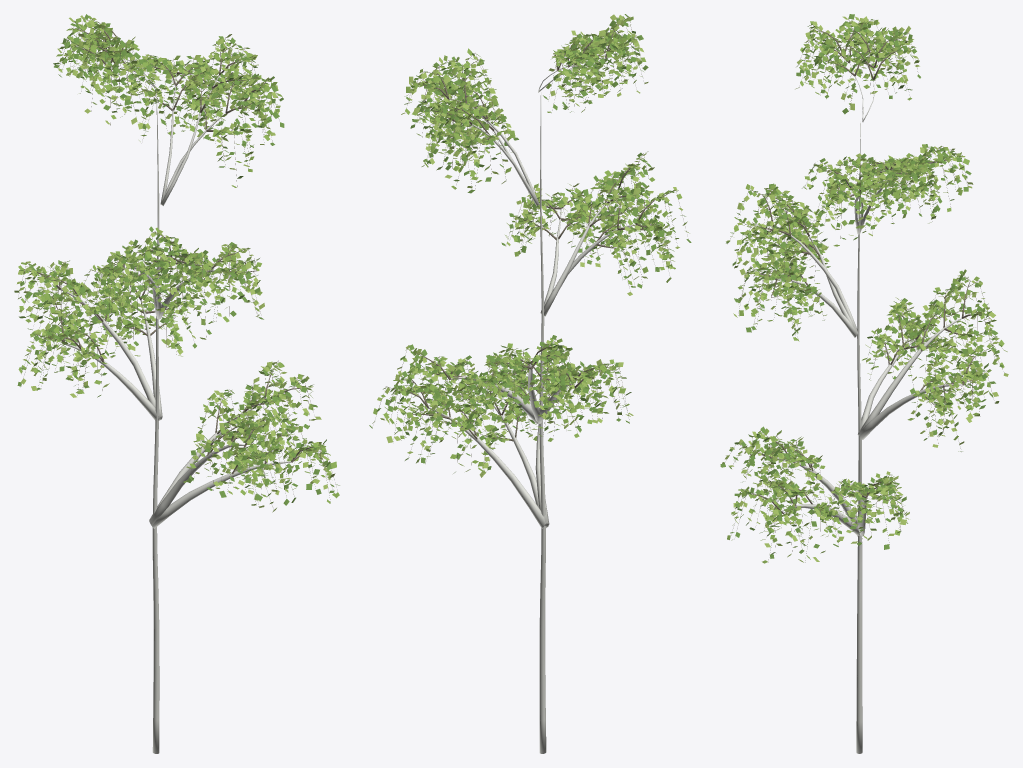
Rendered from bg_birch_0.glb.
The picture shows the model from 3 angles, left to right: view 1: azimuth 30°, elevation 25°; view 2: azimuth 150°, elevation 25°; view 3: azimuth 270°, elevation 25°; orthographic projection. The views are drawn at different scales.
Parts seen in each view (by area): view 1: birch_part1, birch_part3, birch_part2, birch_part0, birch_trunk, birch_part94, birch_part99, birch_part95, birch_part90; view 2: birch_part1, birch_part2, birch_part3, birch_part0, birch_trunk, birch_part89, birch_part96; view 3: birch_part3, birch_part2, birch_part1, birch_part0, birch_trunk, birch_part95, birch_part100.
Boxes of the visible parts, x1=… form: birch_part1: x1=17, y1=14, x2=339, y2=505; birch_part3: x1=17, y1=15, x2=335, y2=512; birch_part2: x1=14, y1=15, x2=339, y2=505; birch_part0: x1=19, y1=18, x2=334, y2=506; birch_trunk: x1=152, y1=90, x2=159, y2=753; birch_part94: x1=150, y1=461, x2=290, y2=528; birch_part99: x1=149, y1=444, x2=244, y2=527; birch_part95: x1=60, y1=289, x2=161, y2=414; birch_part90: x1=65, y1=344, x2=160, y2=420; birch_part1: x1=369, y1=14, x2=691, y2=473; birch_part2: x1=373, y1=16, x2=687, y2=472; birch_part3: x1=372, y1=14, x2=689, y2=477; birch_part0: x1=379, y1=16, x2=685, y2=477; birch_trunk: x1=539, y1=92, x2=546, y2=753; birch_part89: x1=428, y1=407, x2=547, y2=528; birch_part96: x1=541, y1=199, x2=610, y2=315; birch_part3: x1=725, y1=16, x2=1008, y2=562; birch_part2: x1=720, y1=19, x2=1004, y2=563; birch_part1: x1=720, y1=14, x2=1003, y2=558; birch_part0: x1=727, y1=19, x2=1004, y2=562; birch_trunk: x1=856, y1=121, x2=862, y2=753; birch_part95: x1=859, y1=318, x2=961, y2=433; birch_part100: x1=859, y1=384, x2=962, y2=439.
Size of the model in its own units: 4.09 by 10.5 by 3.9.
5 materials, 5 textured.
